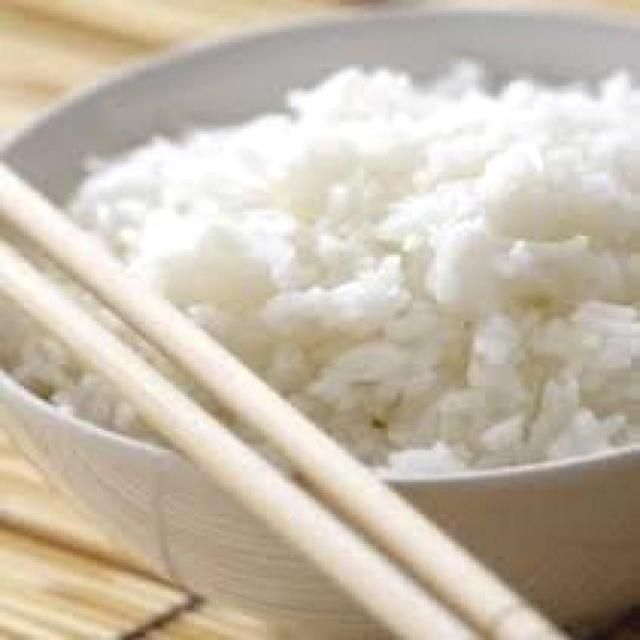rice: (24, 65, 639, 469)
